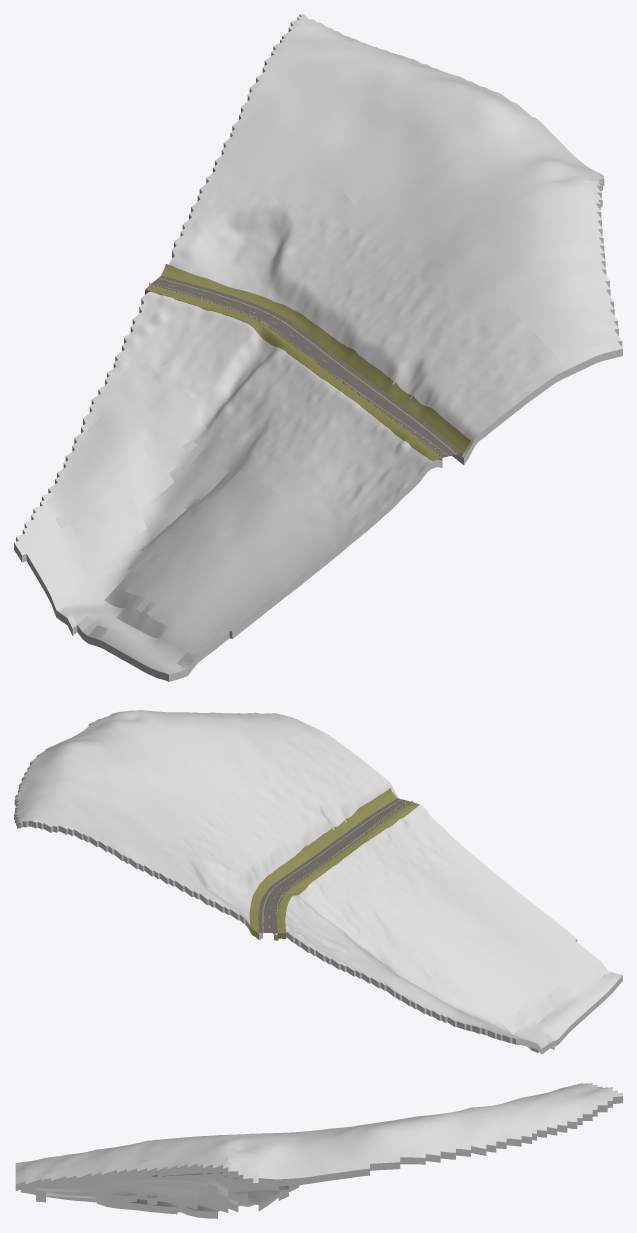
The model's file is conz_3.glb.
3 renders of one model, top to bottom at view 1: azimuth 30°, elevation 25°; view 2: azimuth 150°, elevation 25°; view 3: azimuth 270°, elevation 25°, orthographic. The views are drawn at different scales.
Parts seen in each view (by area): view 1: terrain3, road3, verge3L, verge3R; view 2: terrain3, road3, verge3L, verge3R; view 3: terrain3.
Boxes of the visible parts, x1,y1,x2,y2 form: terrain3: (14,14,622,681); road3: (150,276,461,457); verge3L: (161,264,470,455); verge3R: (145,285,442,460); terrain3: (14,710,622,1053); road3: (258,798,410,933); verge3L: (249,788,396,938); verge3R: (277,802,419,938); terrain3: (15,1083,622,1218).
Size of the model in its own units: 242 by 142 by 241.
